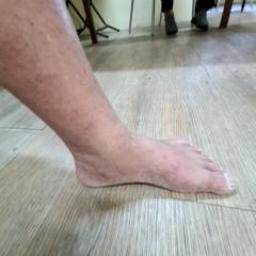Medial View -Left Foot-: (26, 101, 248, 220)
